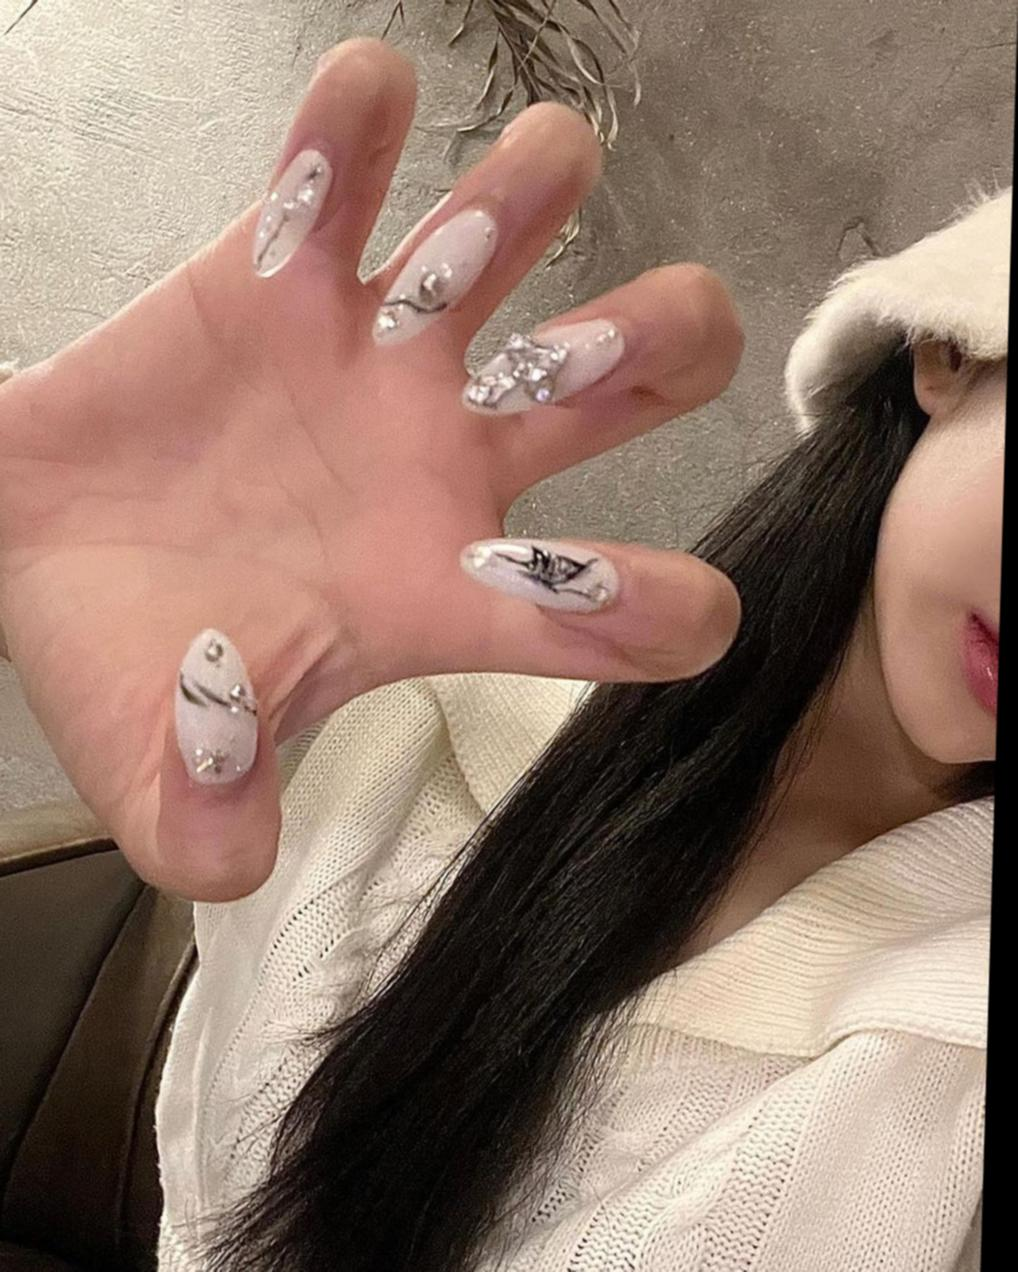nail: (370, 202, 500, 342), (460, 316, 625, 415), (169, 627, 263, 787), (457, 536, 620, 615), (249, 146, 332, 278)
